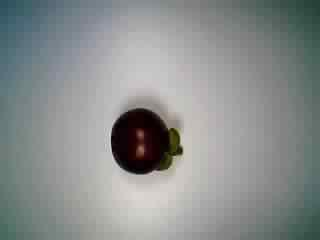mangosteen: (109, 104, 188, 179)
